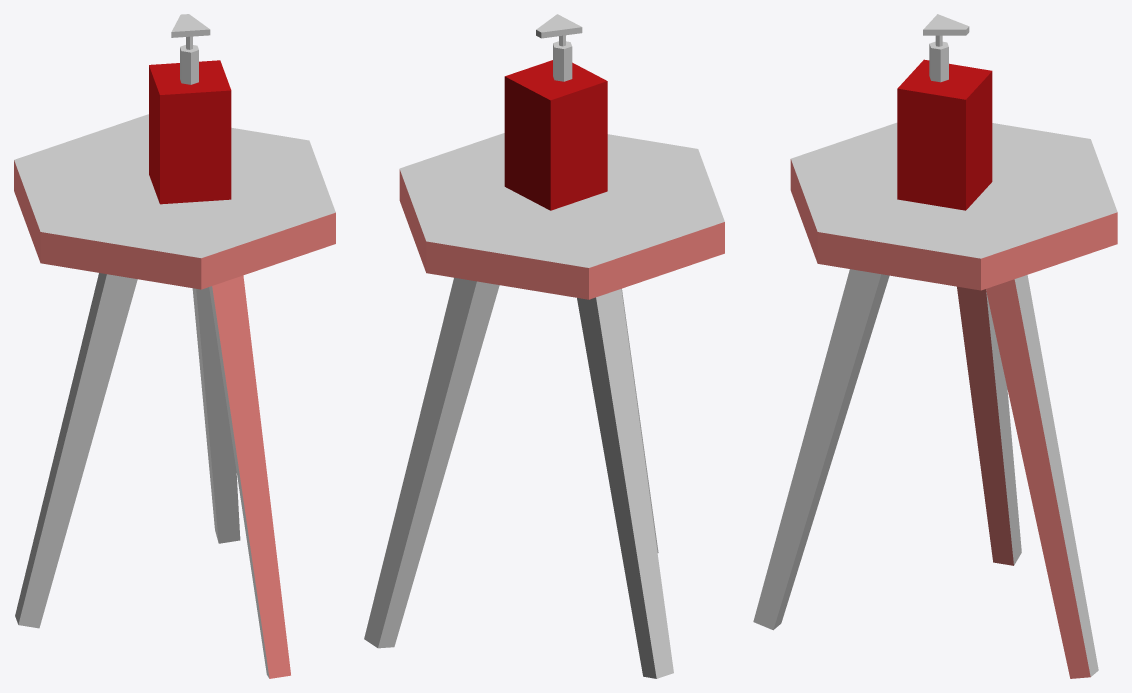
File: k_tabure.obj
3 views of the same model, side by side, from view 1: azimuth 30°, elevation 25°; view 2: azimuth 150°, elevation 25°; view 3: azimuth 270°, elevation 25° (orthographic).
Visible parts, largest first — view 1: chair.016_m_white, chair.016_m_softired, chair.016_m_red; view 2: chair.016_m_white, chair.016_m_red, chair.016_m_softired; view 3: chair.016_m_white, chair.016_m_softired, chair.016_m_red.
Boxes of the visible parts, x1,y1,x2,y2 form: chair.016_m_white: (14,14,335,678); chair.016_m_softired: (14,160,335,678); chair.016_m_red: (149,60,231,204); chair.016_m_white: (364,14,724,678); chair.016_m_red: (504,60,607,210); chair.016_m_softired: (399,169,724,299); chair.016_m_white: (753,14,1117,676); chair.016_m_softired: (790,159,1117,678); chair.016_m_red: (897,59,992,210).
Size of the model in its own units: 7.5 by 14.33 by 7.88.
